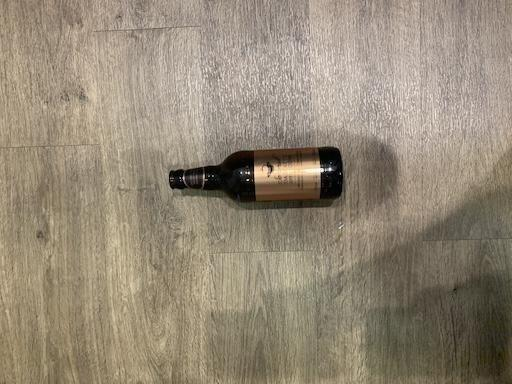bottle-glass: (168, 142, 344, 211)
